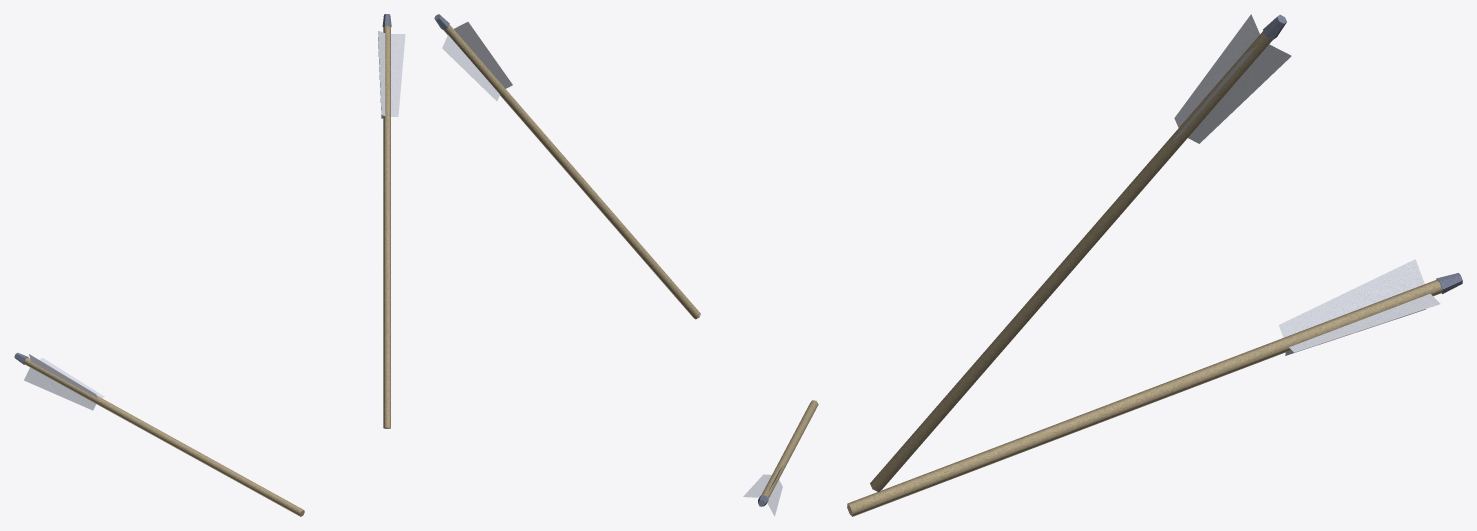
The model's file is mm7_m398_arrows.glb.
3 views of the same model, side by side, from view 1: azimuth 30°, elevation 25°; view 2: azimuth 150°, elevation 25°; view 3: azimuth 270°, elevation 25° (orthographic). The views are drawn at different scales.
Visible parts, largest first — view 1: Arrows; view 2: Arrows; view 3: Arrows.
Boxes of the visible parts, x1,y1,x2,y2 form: Arrows: (14, 14, 405, 516); Arrows: (434, 14, 818, 516); Arrows: (847, 14, 1462, 516).
Bounding box in the file's own units: 0.545 × 0.5753 × 0.4714.
1 material, 1 textured.
